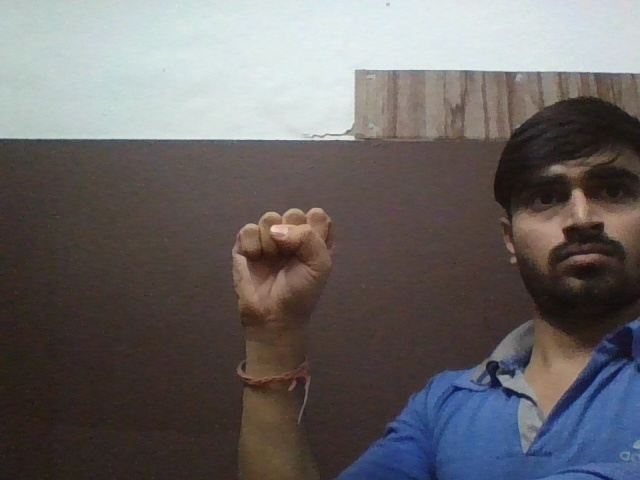S: (221, 203, 340, 328)
